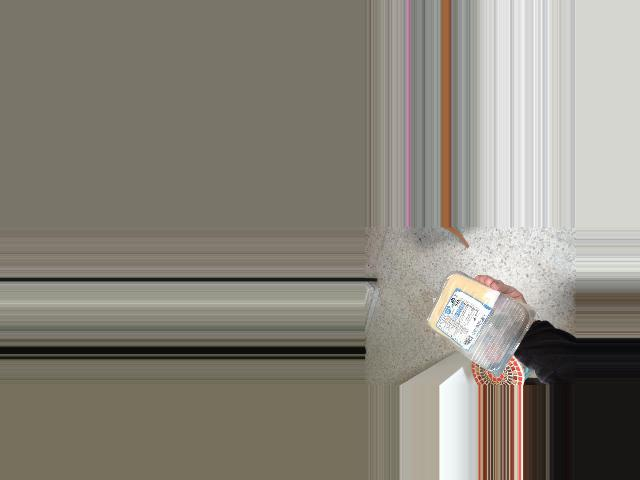cheese: (419, 282, 528, 372)
